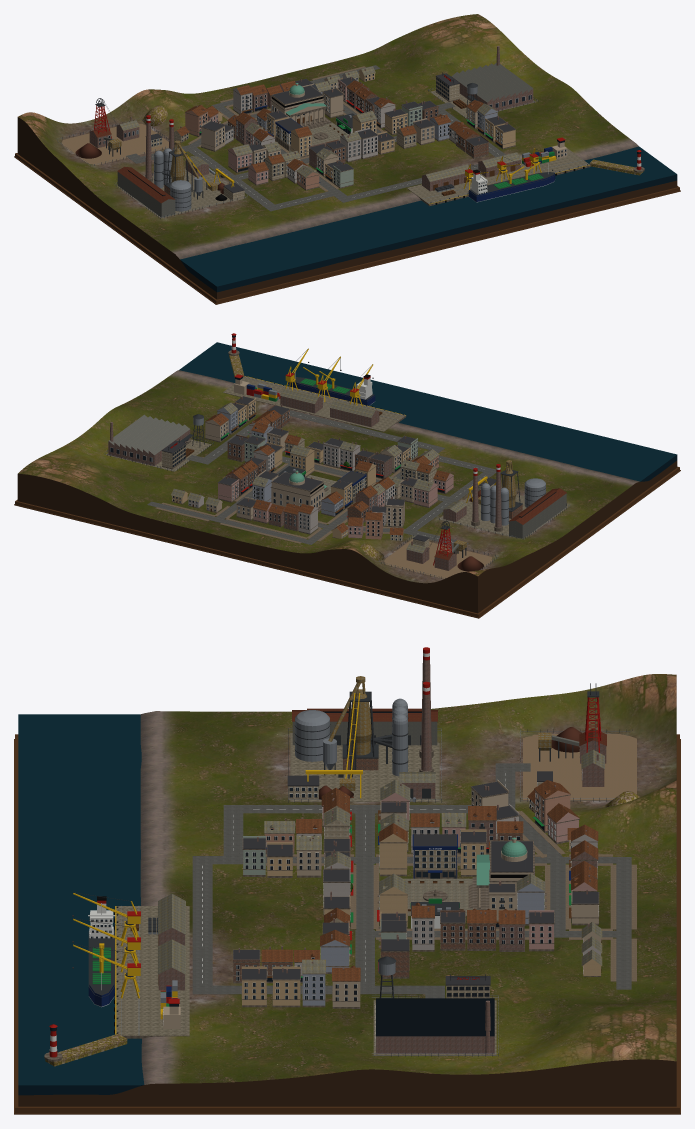
The model's file is makieta.glb.
3 renders of one model, top to bottom at view 1: azimuth 30°, elevation 25°; view 2: azimuth 150°, elevation 25°; view 3: azimuth 270°, elevation 25°, orthographic. The views are drawn at different scales.
Parts seen in each view (by area): view 1: teren, domy_centrum, morze, cokol, STW, BPT, drogi, MTK, RUD, GIELDA, statek, domy_przedmiescie (+3 smaller); view 2: teren, cokol, domy_centrum, morze, drogi, STW, MTK, BPT, RUD, GIELDA, statek, domy_przedmiescie; view 3: teren, morze, domy_centrum, cokol, drogi, STW, BPT, MTK, RUD, GIELDA, statek, GRS (+3 smaller).
Part boxes in pixels (x1,y1,x2,y2): teren: [18, 14, 638, 259]; domy_centrum: [185, 76, 516, 190]; morze: [180, 146, 676, 286]; cokol: [14, 117, 680, 304]; STW: [114, 115, 247, 218]; BPT: [407, 137, 592, 206]; drogi: [126, 65, 505, 211]; MTK: [428, 46, 538, 118]; RUD: [56, 101, 174, 166]; GIELDA: [270, 83, 331, 129]; statek: [468, 162, 555, 202]; domy_przedmiescie: [174, 66, 375, 142]; teren: [18, 370, 639, 583]; cokol: [14, 455, 680, 618]; domy_centrum: [205, 396, 453, 539]; morze: [179, 342, 676, 481]; drogi: [147, 410, 496, 549]; STW: [436, 460, 569, 539]; MTK: [104, 414, 213, 471]; BPT: [223, 374, 406, 431]; RUD: [378, 527, 498, 578]; GIELDA: [270, 470, 326, 512]; statek: [288, 367, 375, 405]; domy_przedmiescie: [171, 488, 404, 541]; teren: [140, 674, 676, 1084]; morze: [18, 714, 144, 1085]; domy_centrum: [233, 779, 599, 1008]; cokol: [14, 734, 680, 1114]; drogi: [192, 763, 636, 998]; STW: [287, 647, 441, 802]; BPT: [114, 894, 189, 1038]; MTK: [372, 956, 498, 1056]; RUD: [520, 691, 636, 801]; GIELDA: [468, 837, 534, 910]; statek: [88, 896, 115, 1007]; GRS: [412, 834, 457, 878].
Bounding box in the file's own units: 404 × 69.2 × 304.
49 materials, 23 textured.
